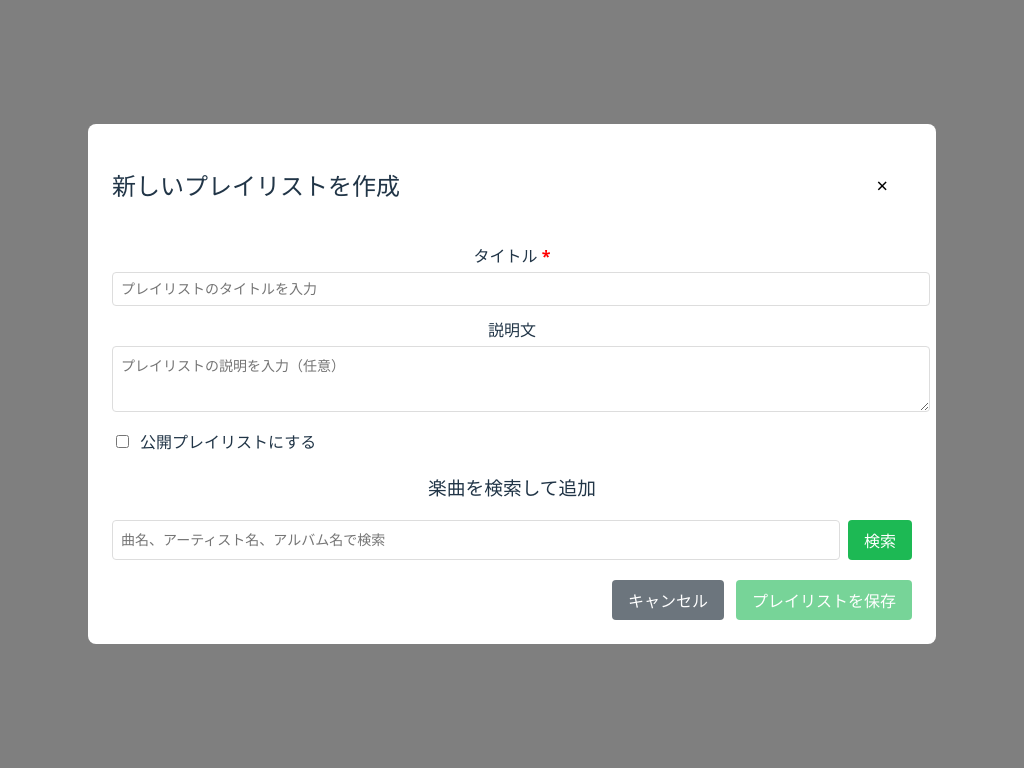
CreatePlaylistModal › 表示・開閉 › 「×」ボタンで閉じると、作成せずに入力内容をリセットする
Type "ドライブ用" into the field with placeholder "プレイリストのタイトルを入力" at (521, 288), box [112, 272, 930, 306]
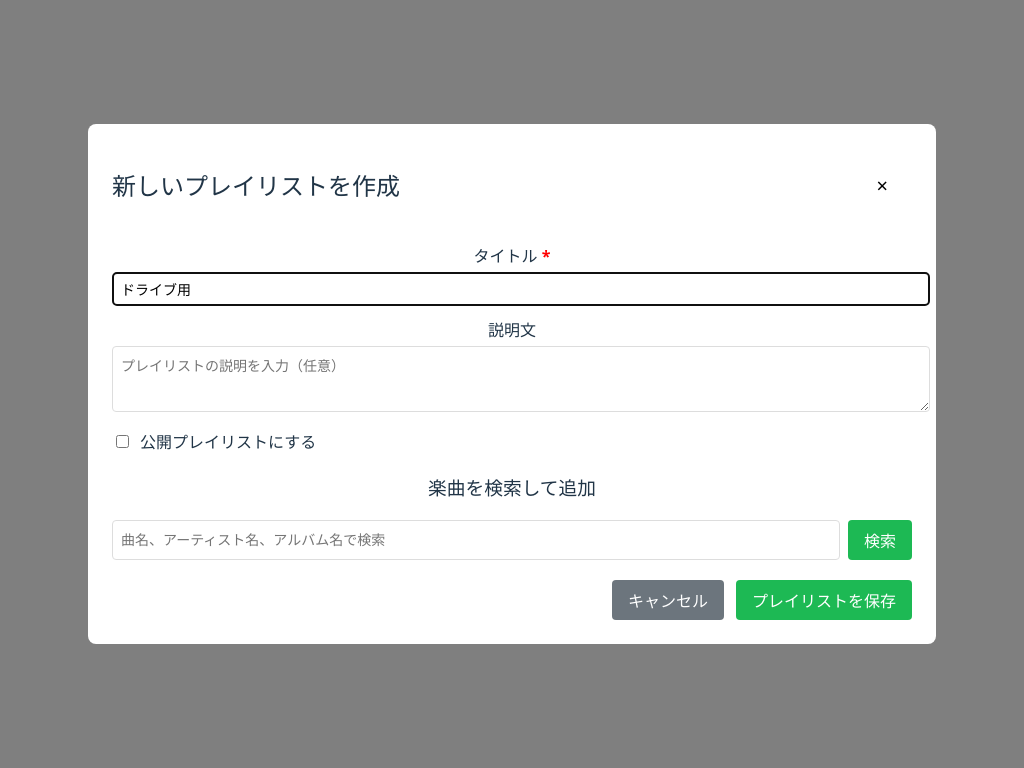
Type "週末に聴く曲" into the text box with placeholder "プレイリストの説明を入力（任意）" at (521, 378), box [112, 346, 930, 412]
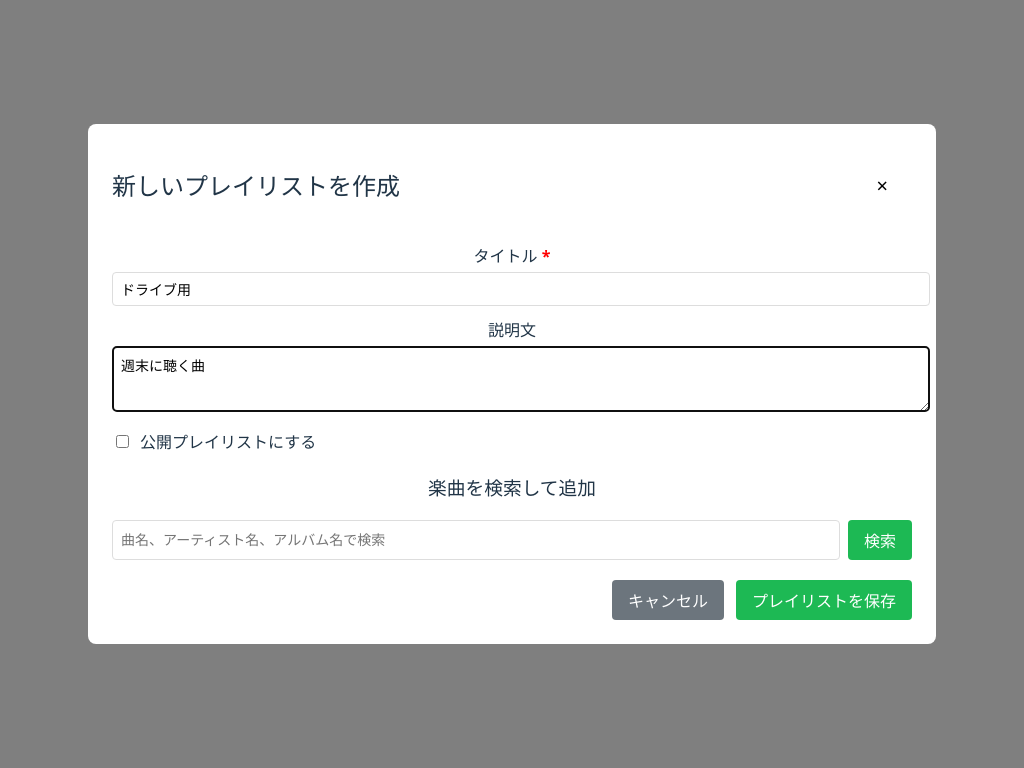
Click the checkbox labelled "公開プレイリストにする" at (122, 442), box [116, 435, 129, 448]
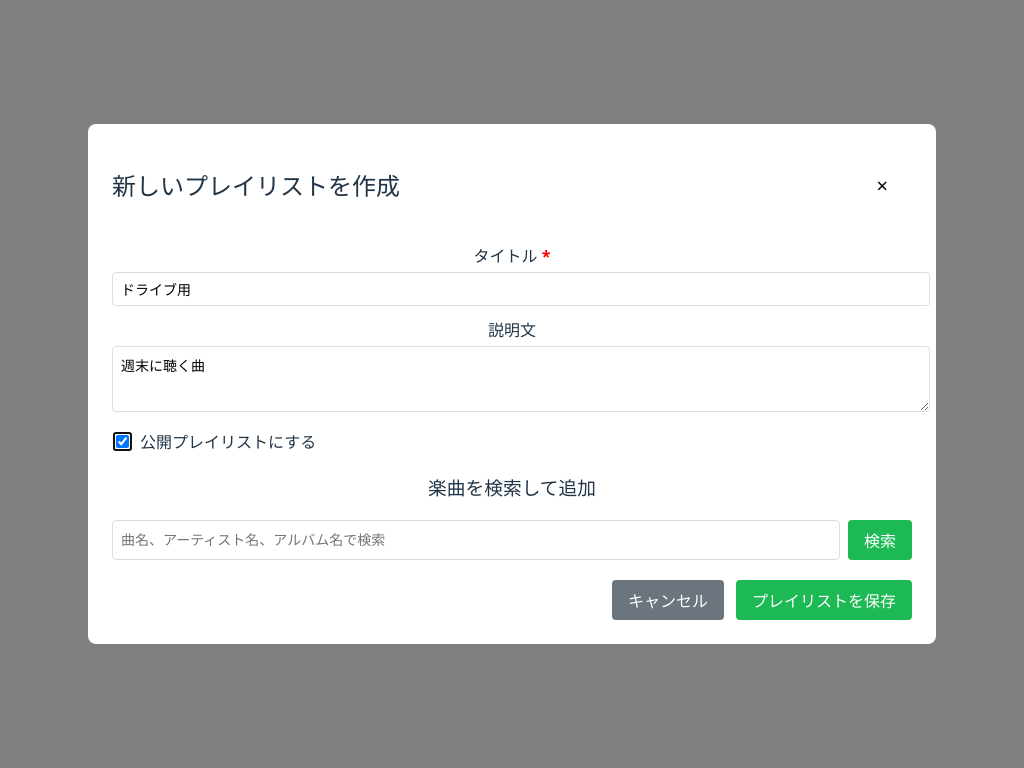
Type "ドライブ" into the field with placeholder "曲名、アーティスト名、アルバム名で検索" at (476, 540), box [112, 520, 840, 560]
Click the button "検索" at (880, 540), box [848, 520, 912, 560]
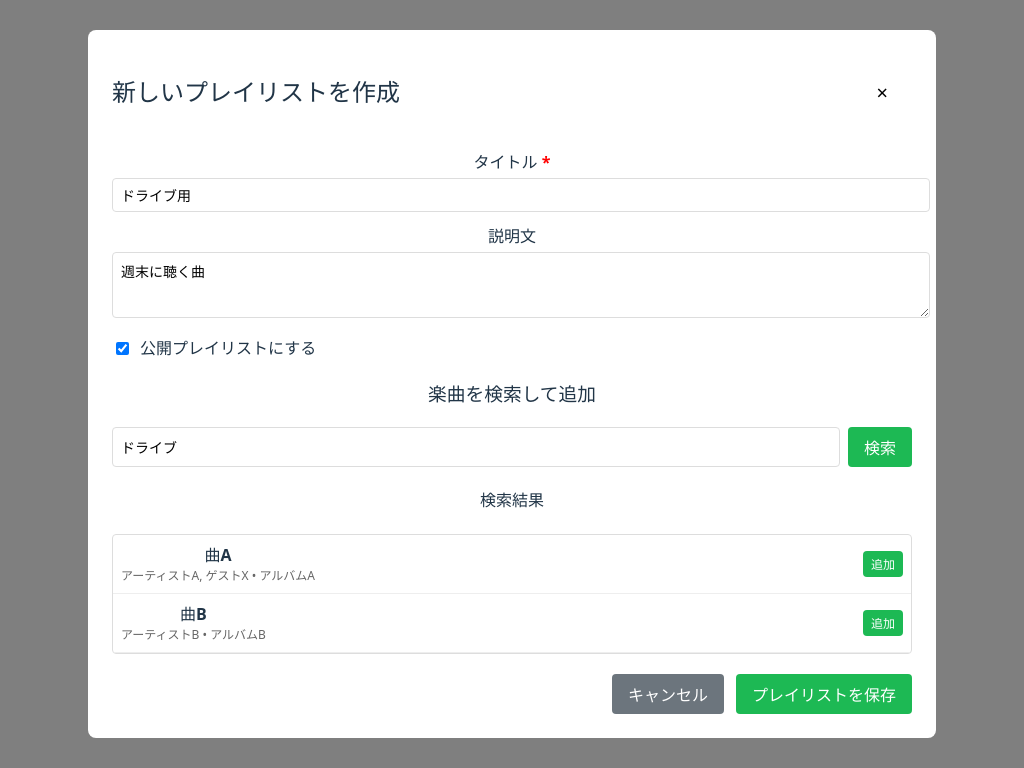
Check: the button "検索" is shown, box [848, 427, 912, 467]
Click the button "追加" in the row of "アルバムA" at (883, 564), box [863, 551, 903, 577]
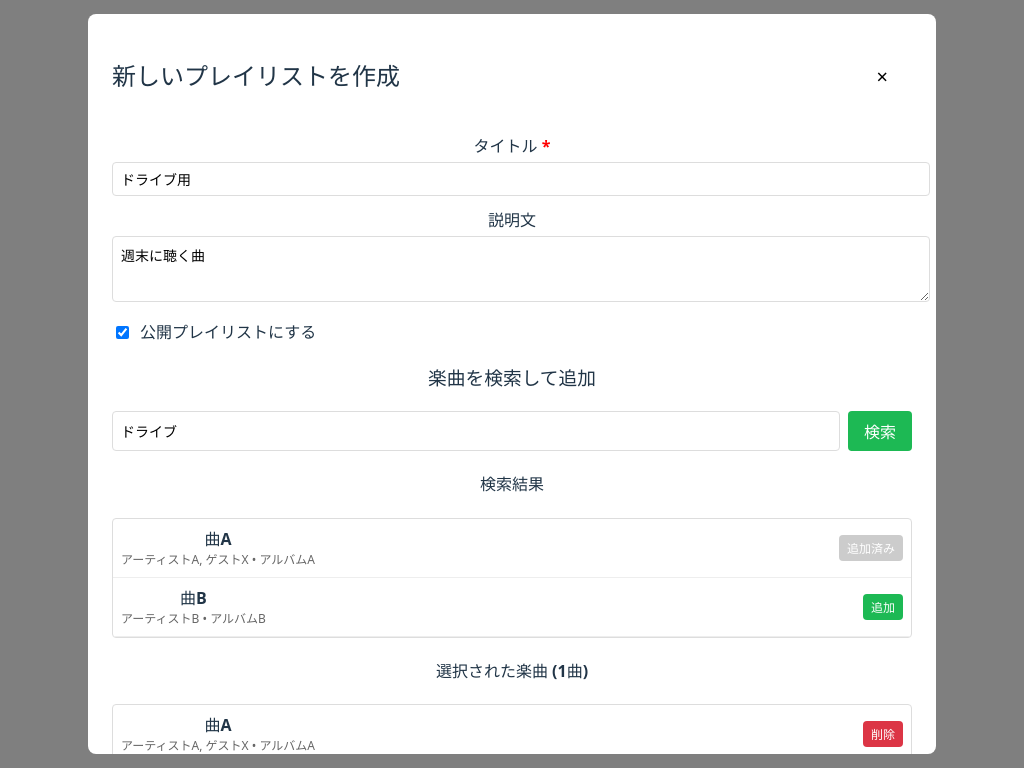
Click the button "×" at (882, 76), box [852, 51, 912, 102]
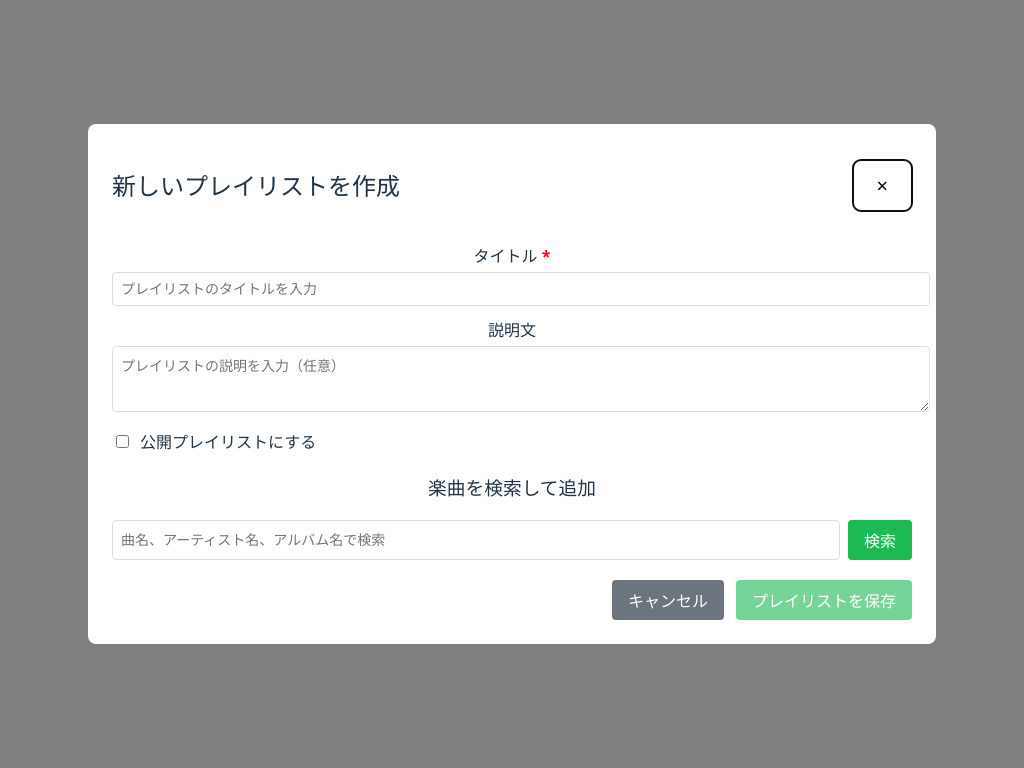
Check: the checkbox labelled "公開プレイリストにする" is not checked, box [116, 435, 129, 448]
Check: the field with placeholder "プレイリストのタイトルを入力" is empty, box [112, 272, 930, 306]
Check: the text box with placeholder "プレイリストの説明を入力（任意）" is empty, box [112, 346, 930, 412]
